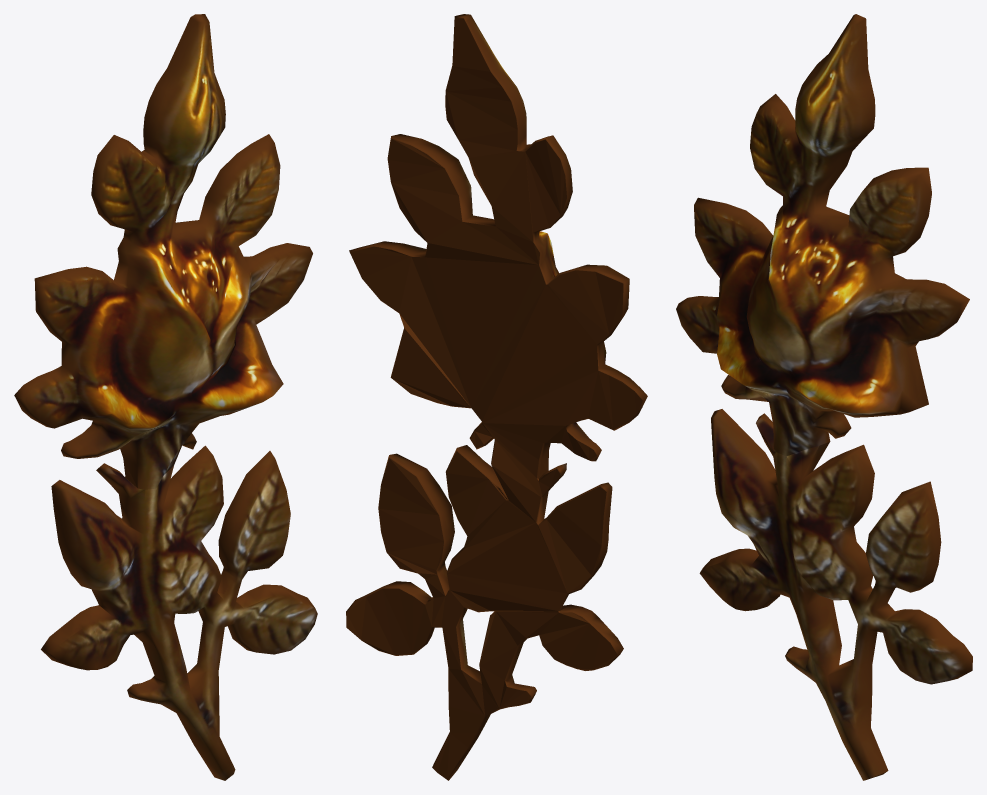
File: Art2471.fbx
The picture shows the model from 3 angles, left to right: view 1: azimuth 30°, elevation 25°; view 2: azimuth 150°, elevation 25°; view 3: azimuth 330°, elevation 25°; orthographic projection.
Parts seen in each view (by area): view 1: Mesh_2; view 2: Mesh_2; view 3: Mesh_2.
Part boxes in pixels (box(x1,y1,x2,y2)): Mesh_2: box(14, 14, 317, 780); Mesh_2: box(346, 14, 647, 780); Mesh_2: box(676, 14, 972, 780).
Size of the model in its own units: 8.06 by 19.75 by 2.1.
Materials: 1 (1 with a texture image).
